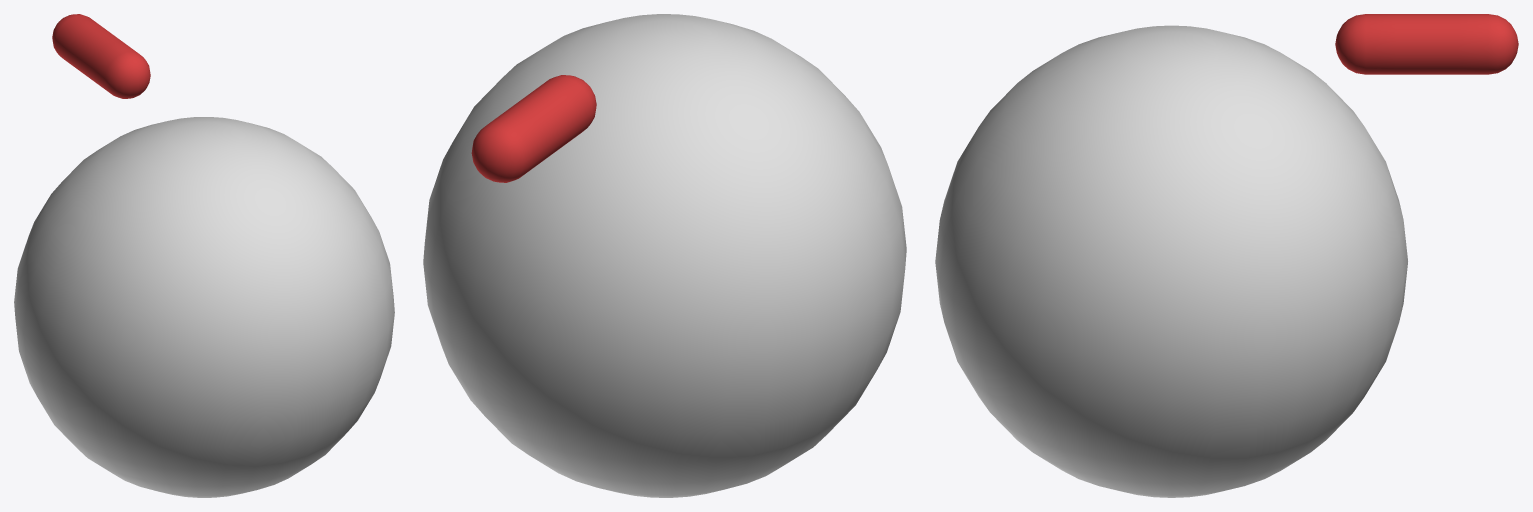
The model's file is SizeDown.fbx.
The picture shows the model from 3 angles, left to right: view 1: azimuth 30°, elevation 25°; view 2: azimuth 150°, elevation 25°; view 3: azimuth 270°, elevation 25°; orthographic projection. The views are drawn at different scales.
Visible parts, largest first — view 1: Cube; view 2: Cube; view 3: Cube.
Boxes of the visible parts, x1,y1,x2,y2 form: Cube: (14,14,394,497); Cube: (423,14,906,497); Cube: (935,14,1518,497).
Bounding box in the file's own units: 101 × 108 × 125.
